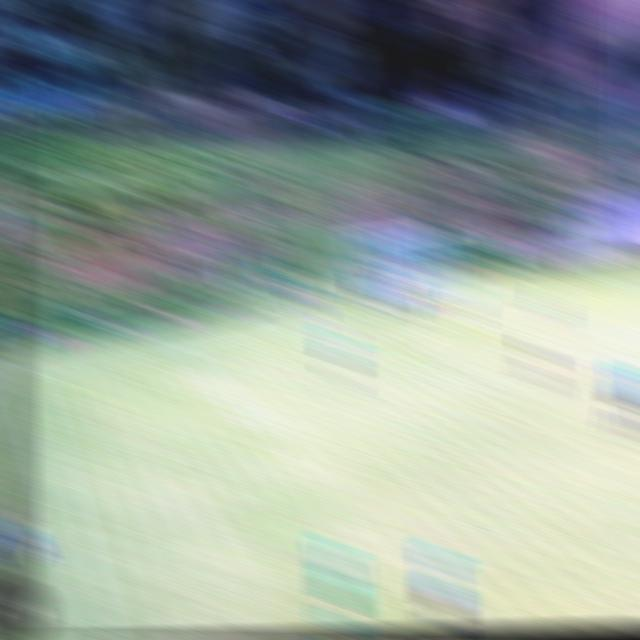bigarea_bottom_inner: (239, 400, 282, 454)
bigarea_bottom_outter: (159, 320, 191, 357)
bigarea_top_outter: (561, 257, 592, 286)
bottom_arc_area_intersection: (420, 365, 458, 398)
corner: (6, 348, 45, 384)
smallarea_top_inner: (516, 282, 549, 315)
smallarea_top_outter: (474, 272, 502, 299)
